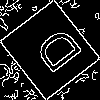D: (25, 24, 84, 82)
